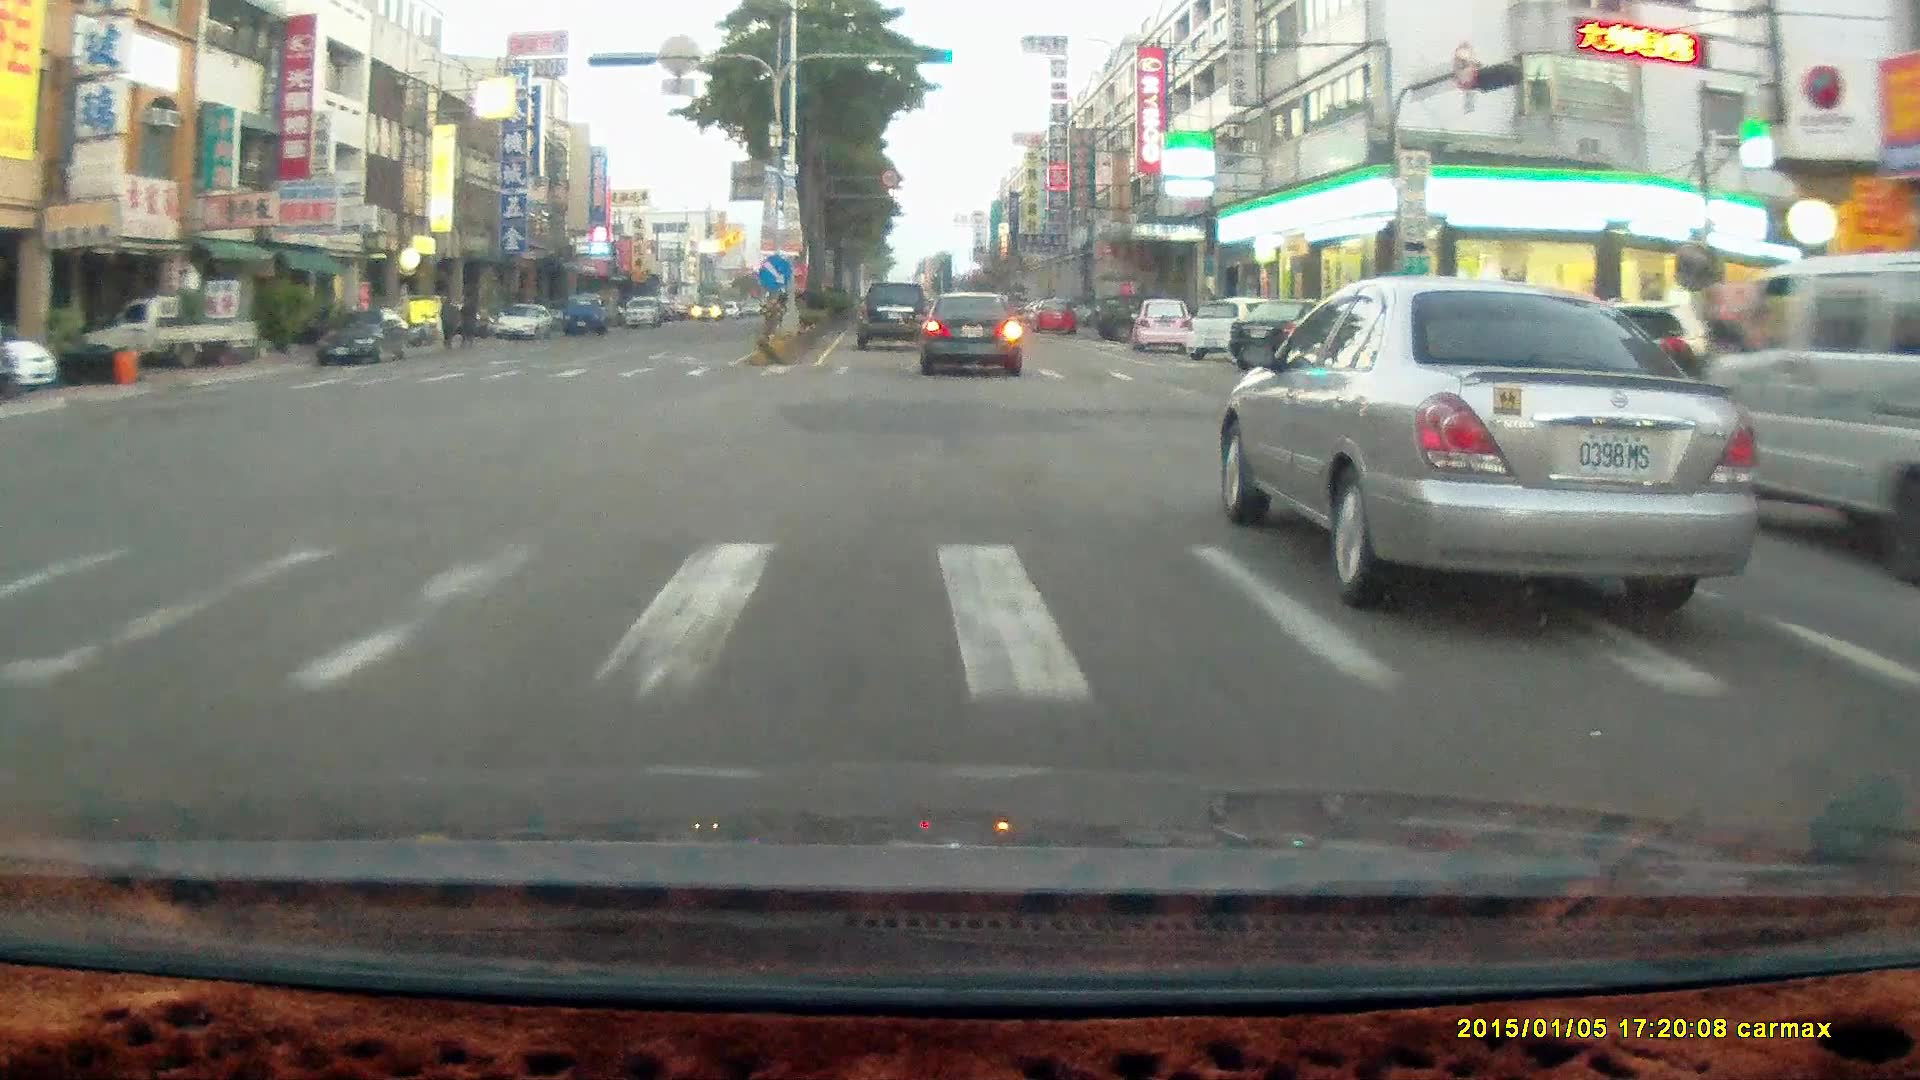pedestrian: (459, 281, 484, 346), (437, 288, 459, 349), (437, 289, 457, 350), (456, 293, 477, 351)
vehicle: (1226, 284, 1763, 604), (1694, 253, 1919, 585), (1692, 252, 1920, 553), (87, 292, 254, 378), (79, 294, 256, 373), (1227, 294, 1361, 368), (922, 292, 1028, 379), (1230, 297, 1354, 371), (921, 288, 1022, 374), (1188, 295, 1292, 360), (310, 304, 416, 367), (859, 277, 933, 353), (854, 279, 930, 350), (316, 309, 409, 363), (1128, 296, 1193, 353), (1095, 291, 1168, 339), (1136, 300, 1196, 356), (493, 303, 557, 342), (560, 294, 609, 336), (493, 303, 552, 338), (560, 291, 603, 335), (1032, 294, 1077, 331), (621, 294, 662, 327)
